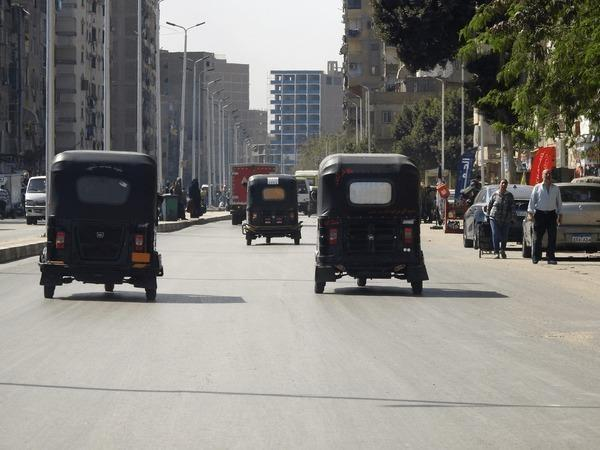keke: (40, 152, 162, 311), (318, 151, 430, 303), (242, 170, 305, 256), (555, 174, 600, 268)
